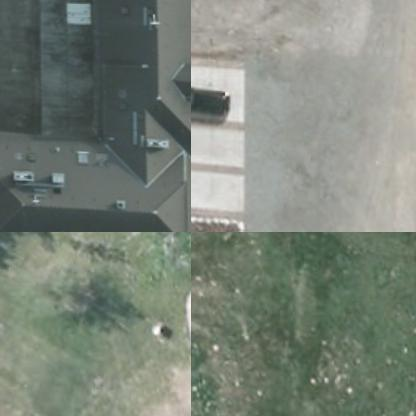car: (191, 81, 230, 119)
